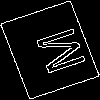M: (25, 25, 88, 80)
